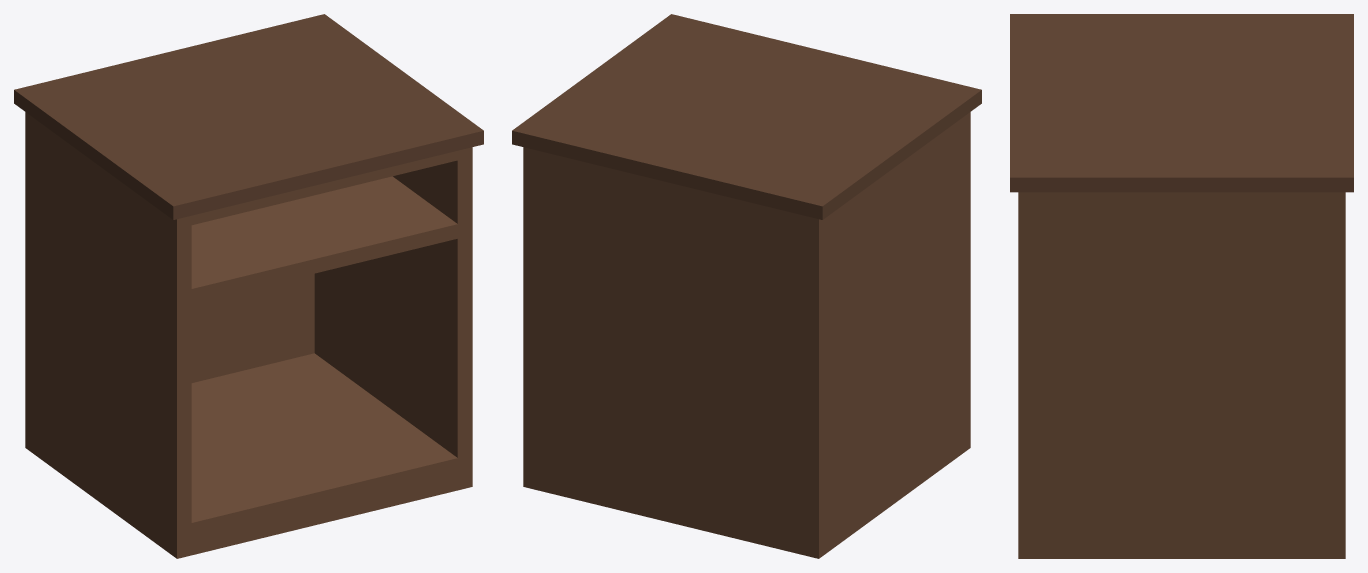
The model's file is BedTable2_C1.fbx.
The picture shows the model from 3 angles, left to right: view 1: azimuth 30°, elevation 25°; view 2: azimuth 150°, elevation 25°; view 3: azimuth 270°, elevation 25°; orthographic projection. The views are drawn at different scales.
Visible parts, largest first — view 1: BedTable2_C1; view 2: BedTable2_C1; view 3: BedTable2_C1.
Part boxes in pixels (x1,y1,x2,y2): BedTable2_C1: (14,14,483,558); BedTable2_C1: (512,14,981,558); BedTable2_C1: (1010,14,1353,558).
Size of the model in its own units: 47.31 by 52 by 42.05.
